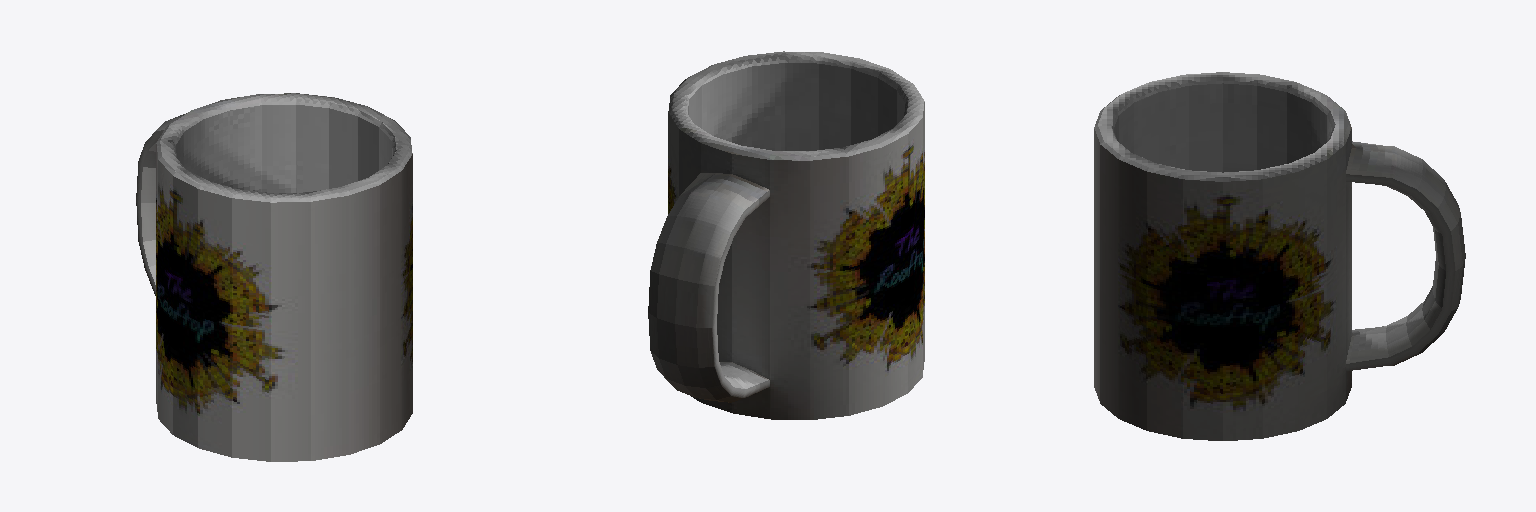
The picture shows the model from 3 angles: view 1: azimuth 30°, elevation 25°; view 2: azimuth 150°, elevation 25°; view 3: azimuth 270°, elevation 25°; orthographic projection.
Parts seen in each view (by area): view 1: pCylinder2_Untitled; view 2: pCylinder2_Untitled; view 3: pCylinder2_Untitled.
Boxes of the visible parts, box(x1,y1,x2,y2) form: pCylinder2_Untitled: box(136, 93, 412, 461); pCylinder2_Untitled: box(648, 51, 924, 419); pCylinder2_Untitled: box(1094, 72, 1465, 440).
Bounding box in the file's own units: 2.9 × 3.26 × 4.19.
1 materials, 1 textured.